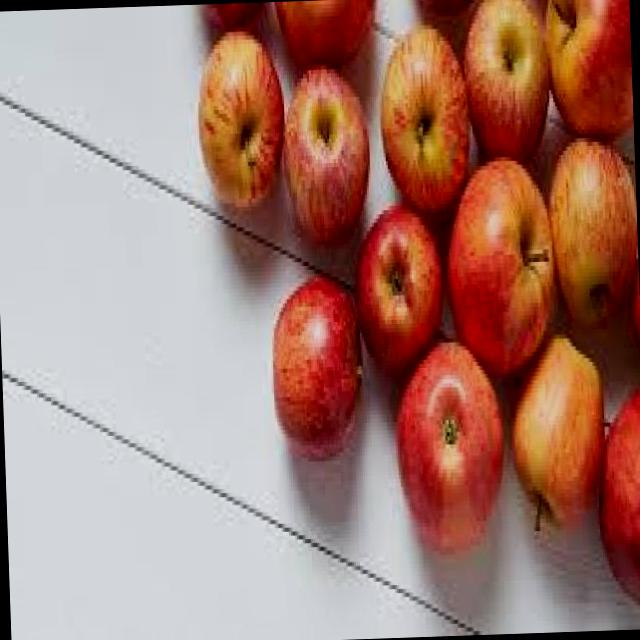Apple: (441, 150, 558, 374), (392, 336, 506, 552), (505, 328, 608, 528), (374, 19, 471, 214), (544, 132, 638, 330), (268, 272, 364, 458), (276, 59, 372, 242), (193, 25, 284, 212), (351, 200, 445, 374), (459, 0, 551, 162), (542, 0, 631, 139), (592, 384, 640, 610), (274, 0, 376, 66), (203, 2, 266, 22)
